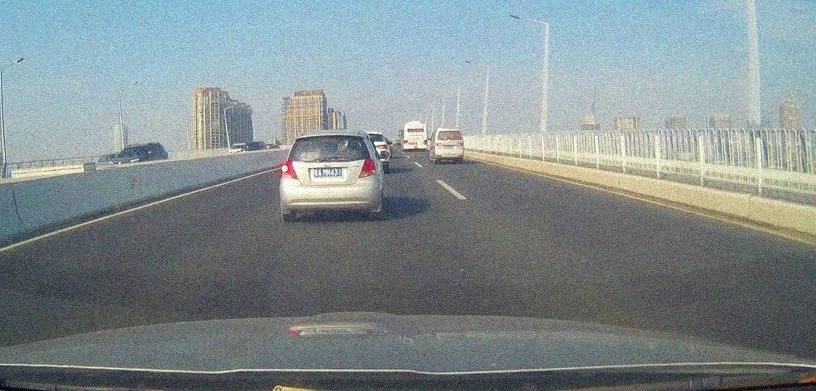L_light: (281, 161, 298, 180), (436, 143, 442, 146), (404, 140, 408, 143)
R_light: (359, 158, 376, 178), (457, 142, 463, 146), (423, 140, 428, 143)
T_light: (322, 135, 336, 139), (447, 131, 452, 133), (413, 124, 417, 126)
day-left: (280, 129, 383, 221)
day-no: (435, 128, 464, 164), (403, 121, 428, 152)
